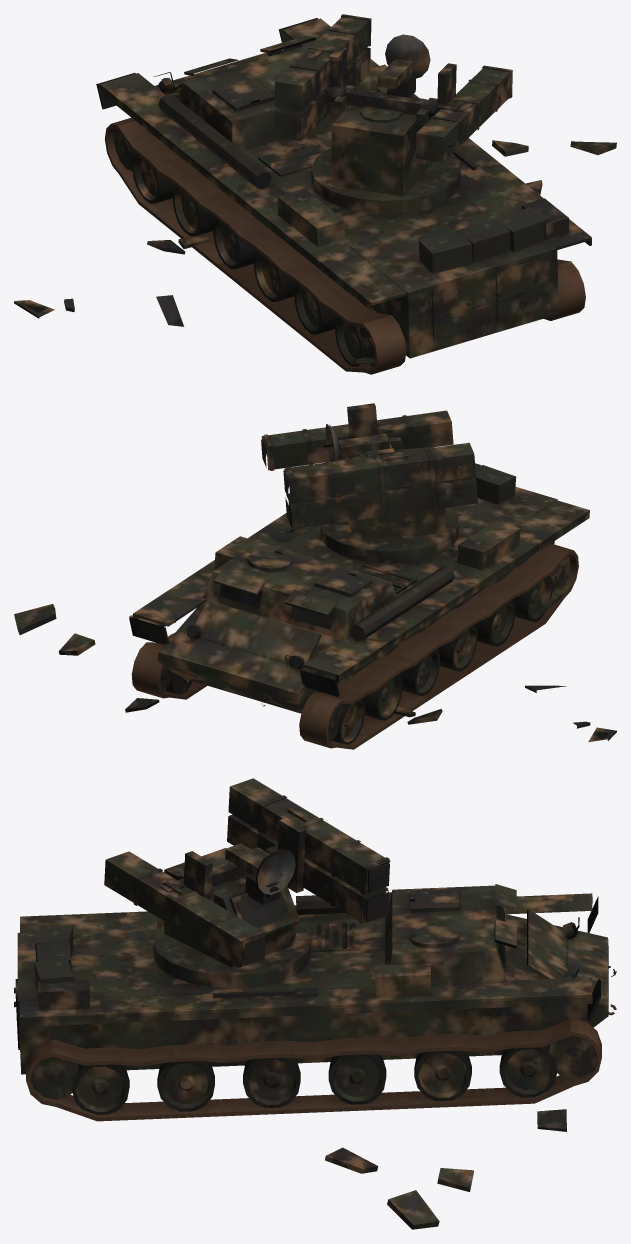
Rendered from sam_launcher_destroyed.glb.
3 views of the same model, one above another, from view 1: azimuth 30°, elevation 25°; view 2: azimuth 150°, elevation 25°; view 3: azimuth 270°, elevation 25° (orthographic). The views are drawn at different scales.
Parts seen in each view (by area): view 1: hull, launcher, turret, debris; view 2: hull, launcher, turret, debris; view 3: hull, launcher, turret, debris.
Part boxes in pixels (x1,y1,x2,y2): hull: [96, 18, 591, 374]; launcher: [273, 14, 512, 162]; turret: [311, 85, 460, 213]; debris: [14, 140, 616, 364]; hull: [129, 463, 589, 749]; launcher: [261, 403, 477, 529]; turret: [320, 431, 458, 563]; debris: [14, 581, 616, 742]; hull: [14, 884, 616, 1121]; launcher: [104, 778, 390, 967]; turret: [153, 845, 311, 988]; debris: [325, 1109, 566, 1229].
Bounding box in the file's own units: 8.14 × 2.99 × 6.47.
Materials: 1 (1 with a texture image).
